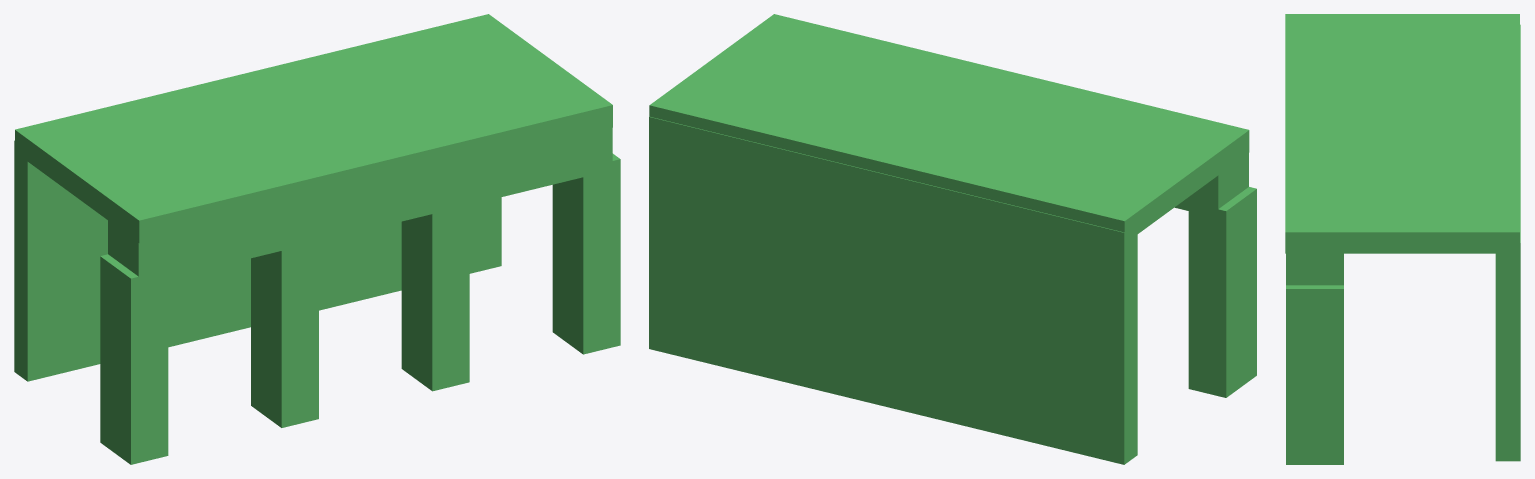
File: greek_house_arcade_collision.glb
3 views of the same model, side by side, from view 1: azimuth 30°, elevation 25°; view 2: azimuth 150°, elevation 25°; view 3: azimuth 270°, elevation 25° (orthographic). The views are drawn at different scales.
Visible parts, largest first — view 1: greek_house_arcade-col-roof, greek_house_arcade-col-back, greek_house_arcade-col-upper, greek_house_arcade-col-pier-0, greek_house_arcade-col-pier-3, greek_house_arcade-col-pier-2, greek_house_arcade-col-pier-1; view 2: greek_house_arcade-col-back, greek_house_arcade-col-roof, greek_house_arcade-col-pier-0, greek_house_arcade-col-upper; view 3: greek_house_arcade-col-roof, greek_house_arcade-col-pier-3, greek_house_arcade-col-back, greek_house_arcade-col-upper.
Part boxes in pixels (box(x1,y1,x2,y2)): greek_house_arcade-col-roof: box(15, 14, 612, 242); greek_house_arcade-col-back: box(14, 140, 501, 381); greek_house_arcade-col-upper: box(108, 127, 612, 280); greek_house_arcade-col-pier-0: box(100, 254, 168, 464); greek_house_arcade-col-pier-3: box(552, 153, 620, 354); greek_house_arcade-col-pier-2: box(401, 196, 469, 391); greek_house_arcade-col-pier-1: box(251, 233, 318, 427); greek_house_arcade-col-back: box(649, 116, 1137, 464); greek_house_arcade-col-roof: box(649, 14, 1249, 240); greek_house_arcade-col-pier-0: box(1188, 187, 1256, 397); greek_house_arcade-col-upper: box(1174, 142, 1248, 210); greek_house_arcade-col-roof: box(1285, 14, 1519, 253); greek_house_arcade-col-pier-3: box(1286, 285, 1343, 464); greek_house_arcade-col-back: box(1495, 24, 1520, 461); greek_house_arcade-col-upper: box(1286, 243, 1343, 285).
Bounding box in the file's own units: 6.82 × 3.23 × 3.01.
